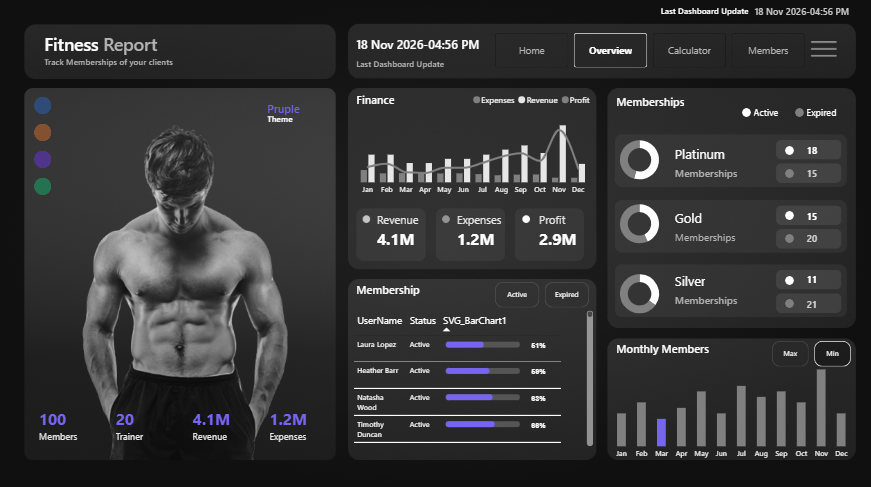

What the dashboard file says about the page in this screenshot:
{"tool":"powerbi","page":{"name":"Overall","canvas":[1280,720],"ordinal":1},"visuals":[{"type":"cardVisual","fields":{"Data":["_Measures.Profit"]},"box":[769.2,309.4,105.5,60.7],"z":0},{"type":"cardVisual","fields":{"Data":["_Measures.User_Counts","Count(Users.Trainer Name)","_Measures.Revenue","_Measures.Expense"]},"box":[46.3,581.2,439,80],"z":1000},{"type":"cardVisual","fields":{"Data":["_Measures.Revenue"]},"box":[534.9,309.4,105.5,60.7],"z":2000},{"type":"cardVisual","fields":{"Data":["_Measures.Expenses"]},"box":[650.6,309.4,105.5,60.7],"z":3000},{"type":"lineClusteredColumnComboChart","fields":{"Category":["Calendar.Month"],"Y":["_Measures.Expenses","_Measures.Revenue"],"Y2":["_Measures.Profit"]},"box":[500.2,121.4,378.8,188],"z":4000},{"type":"shape","box":[519,121.4,95.4,54.9],"z":5000},{"type":"clusteredColumnChart","fields":{"Category":["Calendar.Month"],"Y":["_Measures.User_Counts"]},"box":[870.4,508.9,386,182.2],"z":6000},{"type":"shape","box":[894.9,481.4,199.5,54.9],"z":7000},{"type":"advancedSlicerVisual","fields":{"Values":["Min_Max_Switch.Type"]},"box":[1121.9,498.8,115.7,37.6],"z":8000},{"type":"tableEx","fields":{"Values":["Users.UserName","Users.Status","_Measures.SVG_BarChart1"]},"box":[500.2,441,378.8,225.5],"z":9000},{"type":"advancedSlicerVisual","fields":{"Values":["Users.Status"]},"box":[721.4,413.5,137.3,37.6],"z":10000},{"type":"shape","box":[519,396.1,121.4,54.9],"z":11000},{"type":"shape","box":[980.2,394.7,146,35],"z":12000},{"type":"shape","box":[980.2,303.6,146,35],"z":13000},{"type":"shape","box":[980.2,211.1,146,35],"z":14000},{"type":"shape","box":[980.2,238.6,146,35],"z":15000},{"type":"shape","box":[980.2,331.1,146,35],"z":16000},{"type":"shape","box":[980.2,422.2,146,35],"z":17000},{"type":"donutChart","fields":{"Category":["Users.Status"],"Y":["_Measures.User_Platinum"]},"box":[879,185.1,102.7,105.5],"z":18000},{"type":"donutChart","fields":{"Category":["Users.Status"],"Y":["_Measures.User_Gold"]},"box":[879,277.6,102.7,105.5],"z":19000},{"type":"donutChart","fields":{"Category":["Users.Status"],"Y":["_Measures.User_Silver"]},"box":[879,378.8,102.7,105.5],"z":20000},{"type":"card","fields":{"Values":["_Measures.Silver_Expire"]},"box":[1148,422.2,63.6,53.5],"z":21000},{"type":"card","fields":{"Values":["_Measures.Silver_Active"]},"box":[1148,386,63.6,53.5],"z":22000},{"type":"card","fields":{"Values":["_Measures.Platinum_Active"]},"box":[1148,199.5,63.6,53.5],"z":23000},{"type":"card","fields":{"Values":["_Measures.Platinum_Expire"]},"box":[1148,232.8,63.6,53.5],"z":24000},{"type":"card","fields":{"Values":["_Measures.Gold_Expire"]},"box":[1148,326.7,63.6,53.5],"z":25000},{"type":"card","fields":{"Values":["_Measures.Platinum_Expire"]},"box":[1148,294.9,63.6,53.5],"z":26000},{"type":"shape","box":[1140.7,216.9,13,13],"z":27000},{"type":"shape","box":[1140.7,250.1,13,13],"z":28000},{"type":"shape","box":[1140.7,310.8,13,13],"z":29000},{"type":"shape","box":[1140.7,344.1,13,13],"z":30000},{"type":"shape","box":[1140.7,404.8,13,13],"z":31000},{"type":"shape","box":[1140.7,438.1,13,13],"z":32000},{"type":"shape","box":[1078.6,161.9,13,13],"z":33000},{"type":"shape","box":[1155.2,161.9,13,13],"z":34000},{"type":"shape","box":[1171.1,156.1,52,24.6],"z":35000},{"type":"shape","box":[1094.5,156.1,52,24.6],"z":36000},{"type":"shape","box":[894.9,124.3,122.9,54.9],"z":37000},{"type":"shape","box":[68,44.8,95.4,49.2],"z":38000},{"type":"shape","box":[153.3,44.8,95.4,49.2],"z":39000},{"type":"shape","box":[68,69.4,224.1,49.2],"z":40000},{"type":"card","fields":{"Values":["_Measures.Last_Refresh"]},"box":[1072.8,1.4,185.1,49.2],"z":41000},{"type":"shape","box":[519,44.8,271.8,49.2],"z":42000},{"type":"shape","box":[519,72.3,224.1,49.2],"z":43000},{"type":"image","box":[1165.3,53.5,65.1,47.7],"z":44000},{"type":"pageNavigator","box":[721.4,53.5,448.2,50.6],"z":45000},{"type":"shape","box":[960,4.3,173.5,31.8],"z":46000},{"type":"advancedSlicerVisual","fields":{"Values":["ColorCodes.Icon"]},"box":[47.7,143.1,40.5,151.8],"z":46001},{"type":"shape","box":[390.4,134.5,95.4,54.9],"z":46002},{"type":"shape","box":[390.4,151.8,224.1,49.2],"z":46003}]}

Visuals, with their boxes in screenshot pixels (x1, y1, x2, y2), scaled from the page's 1280x720 canvas onto the 871x487 screenshot:
cardVisual - _Measures.Profit: [left=523, top=209, right=595, bottom=250]
cardVisual - _Measures.User_Counts x Count(Users.Trainer Name): [left=32, top=393, right=330, bottom=447]
cardVisual - _Measures.Revenue: [left=364, top=209, right=436, bottom=250]
cardVisual - _Measures.Expenses: [left=443, top=209, right=515, bottom=250]
lineClusteredColumnComboChart - Calendar.Month x _Measures.Expenses: [left=340, top=82, right=598, bottom=209]
shape: [left=353, top=82, right=418, bottom=119]
clusteredColumnChart - Calendar.Month x _Measures.User_Counts: [left=592, top=344, right=855, bottom=467]
shape: [left=609, top=326, right=745, bottom=363]
advancedSlicerVisual - Min_Max_Switch.Type: [left=763, top=337, right=842, bottom=363]
tableEx - Users.UserName x Users.Status: [left=340, top=298, right=598, bottom=451]
advancedSlicerVisual - Users.Status: [left=491, top=280, right=584, bottom=305]
shape: [left=353, top=268, right=436, bottom=305]
shape: [left=667, top=267, right=766, bottom=291]
shape: [left=667, top=205, right=766, bottom=229]
shape: [left=667, top=143, right=766, bottom=166]
shape: [left=667, top=161, right=766, bottom=185]
shape: [left=667, top=224, right=766, bottom=248]
shape: [left=667, top=286, right=766, bottom=309]
donutChart - Users.Status x _Measures.User_Platinum: [left=598, top=125, right=668, bottom=197]
donutChart - Users.Status x _Measures.User_Gold: [left=598, top=188, right=668, bottom=259]
donutChart - Users.Status x _Measures.User_Silver: [left=598, top=256, right=668, bottom=328]
card - _Measures.Silver_Expire: [left=781, top=286, right=824, bottom=322]
card - _Measures.Silver_Active: [left=781, top=261, right=824, bottom=297]
card - _Measures.Platinum_Active: [left=781, top=135, right=824, bottom=171]
card - _Measures.Platinum_Expire: [left=781, top=157, right=824, bottom=194]
card - _Measures.Gold_Expire: [left=781, top=221, right=824, bottom=257]
card - _Measures.Platinum_Expire: [left=781, top=199, right=824, bottom=236]
shape: [left=776, top=147, right=785, bottom=156]
shape: [left=776, top=169, right=785, bottom=178]
shape: [left=776, top=210, right=785, bottom=219]
shape: [left=776, top=233, right=785, bottom=242]
shape: [left=776, top=274, right=785, bottom=283]
shape: [left=776, top=296, right=785, bottom=305]
shape: [left=734, top=110, right=743, bottom=118]
shape: [left=786, top=110, right=795, bottom=118]
shape: [left=797, top=106, right=832, bottom=122]
shape: [left=745, top=106, right=780, bottom=122]
shape: [left=609, top=84, right=693, bottom=121]
shape: [left=46, top=30, right=111, bottom=64]
shape: [left=104, top=30, right=169, bottom=64]
shape: [left=46, top=47, right=199, bottom=80]
card - _Measures.Last_Refresh: [left=730, top=1, right=856, bottom=34]
shape: [left=353, top=30, right=538, bottom=64]
shape: [left=353, top=49, right=506, bottom=82]
image: [left=793, top=36, right=837, bottom=68]
pageNavigator: [left=491, top=36, right=796, bottom=70]
shape: [left=653, top=3, right=771, bottom=24]
advancedSlicerVisual - ColorCodes.Icon: [left=32, top=97, right=60, bottom=199]
shape: [left=266, top=91, right=331, bottom=128]
shape: [left=266, top=103, right=418, bottom=136]
